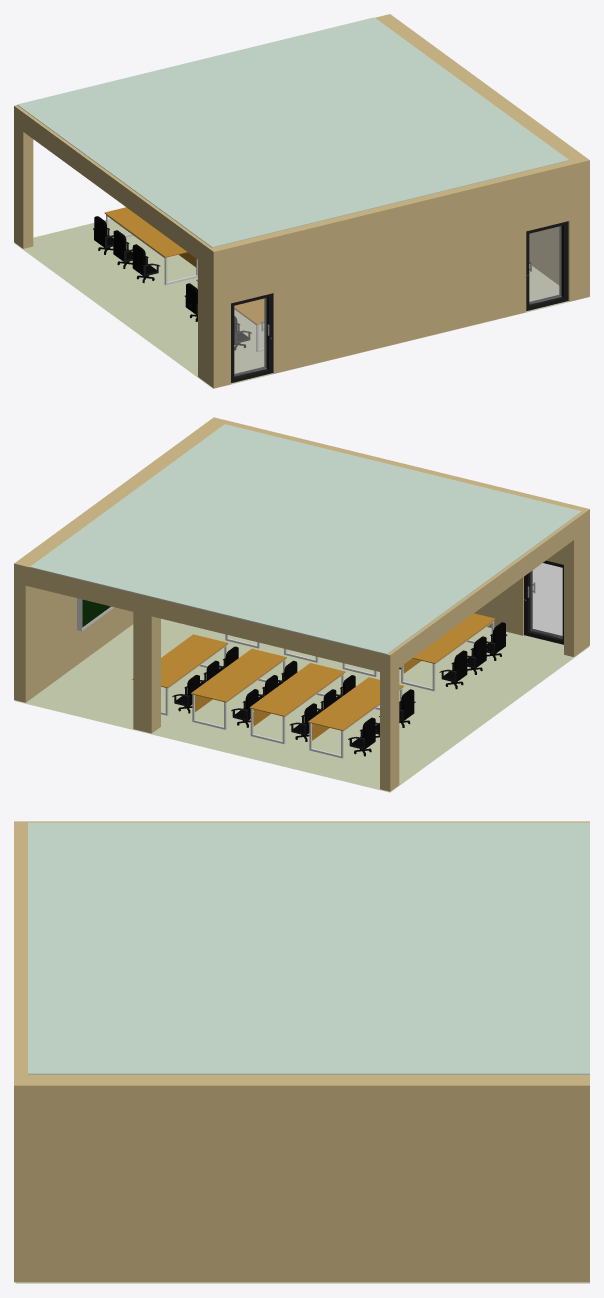
The model's file is CCIS_Hyflex1_v1.glb.
The picture shows the model from 3 angles, top to bottom: view 1: azimuth 30°, elevation 25°; view 2: azimuth 150°, elevation 25°; view 3: azimuth 270°, elevation 25°; orthographic projection. The views are drawn at different scales.
Parts seen in each view (by area): view 1: Fan Switch.008; view 2: Fan Switch.008; view 3: Fan Switch.008.
Boxes of the visible parts, box(x1,y1,x2,y2) form: Fan Switch.008: box(14, 14, 589, 388); Fan Switch.008: box(14, 417, 589, 792); Fan Switch.008: box(14, 821, 589, 1283).
Size of the model in its own units: 4.5 by 1.58 by 4.14.
